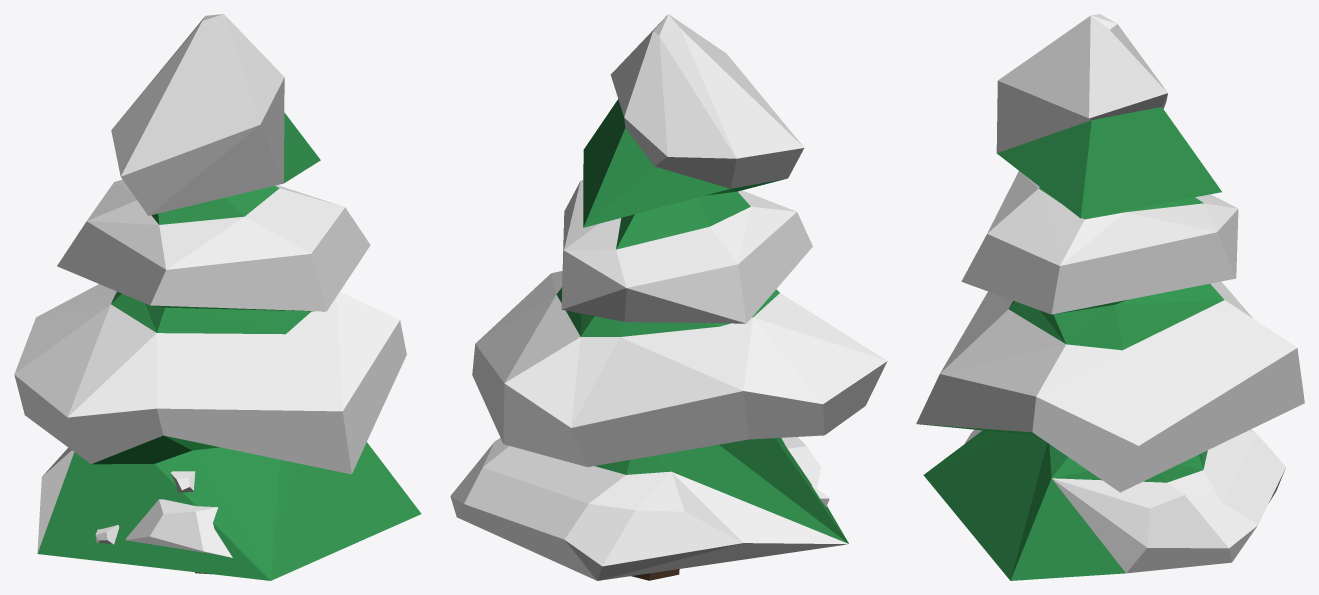
The model's file is TreeWinter5_Alt4.fbx.
The picture shows the model from 3 angles, left to right: view 1: azimuth 30°, elevation 25°; view 2: azimuth 150°, elevation 25°; view 3: azimuth 270°, elevation 25°; orthographic projection. The views are drawn at different scales.
Parts seen in each view (by area): view 1: TreeWinter5_Alt4; view 2: TreeWinter5_Alt4; view 3: TreeWinter5_Alt4.
Part boxes in pixels (left/top/right/bottom): TreeWinter5_Alt4: left=14, top=14, right=421, bottom=580; TreeWinter5_Alt4: left=450, top=14, right=887, bottom=580; TreeWinter5_Alt4: left=916, top=14, right=1304, bottom=580.
Size of the model in its own units: 2 by 2.86 by 1.85.
